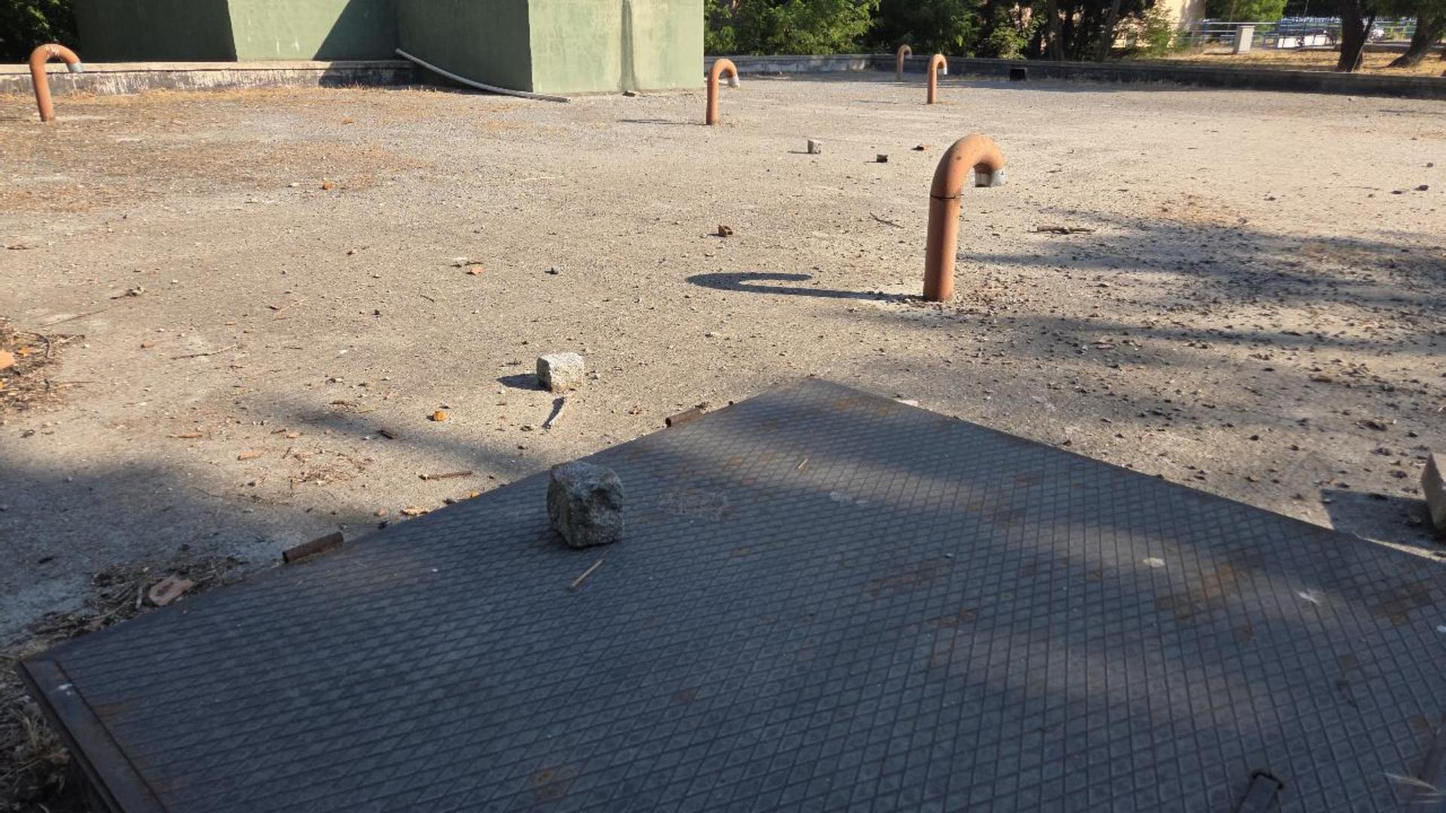rock: (547, 461, 624, 548), (537, 352, 585, 391), (808, 139, 821, 152)
